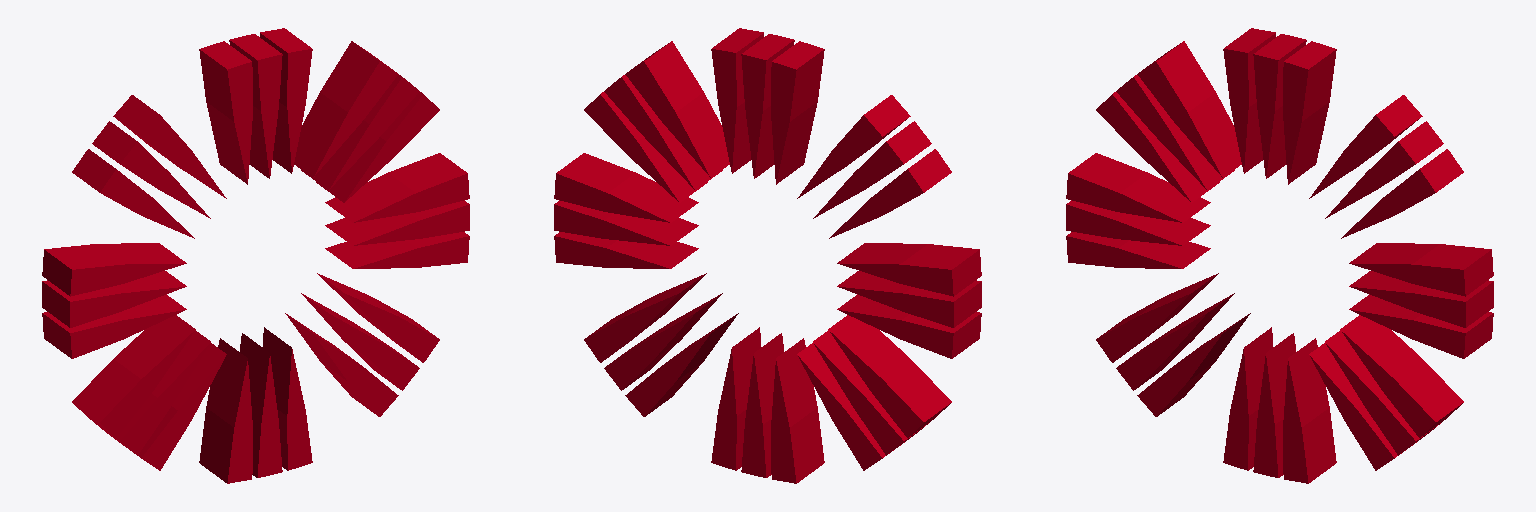
The model's file is yep.obj.
3 views of the same model, side by side, from view 1: azimuth 30°, elevation 25°; view 2: azimuth 150°, elevation 25°; view 3: azimuth 330°, elevation 25° (orthographic).
Parts seen in each view (by area): view 1: Solid1; view 2: Solid1; view 3: Solid1.
Part boxes in pixels (x1,y1,x2,y2): Solid1: (42, 28, 469, 483); Solid1: (554, 28, 981, 483); Solid1: (1066, 28, 1493, 483).
Size of the model in its own units: 24.6 by 24.6 by 3.